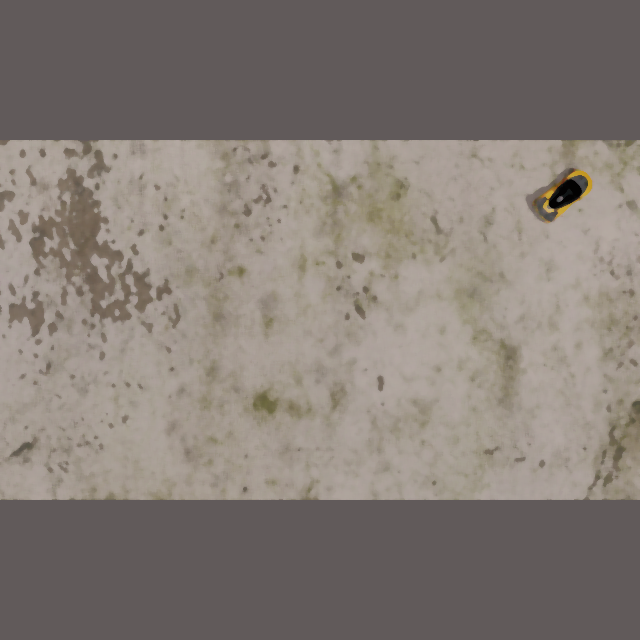car: (525, 161, 603, 228)
